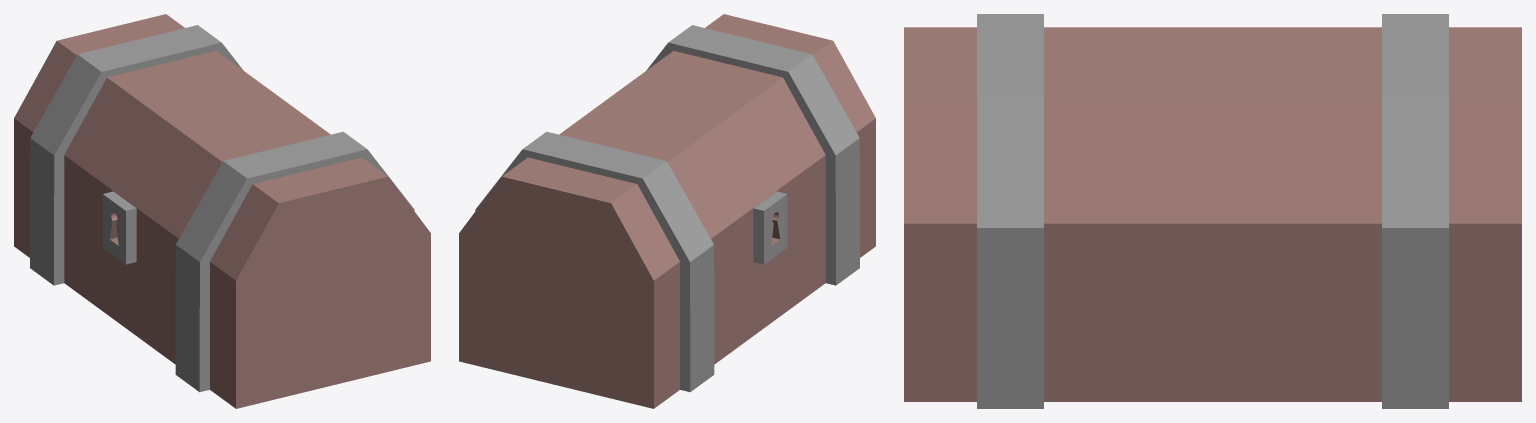
The model's file is Gecilada.fbx.
3 renders of one model, left to right at view 1: azimuth 30°, elevation 25°; view 2: azimuth 150°, elevation 25°; view 3: azimuth 270°, elevation 25°, orthographic. The views are drawn at different scales.
Visible parts, largest first — view 1: Cube; view 2: Cube; view 3: Cube.
Part boxes in pixels (left/top/right/bottom): Cube: left=14, top=14, right=430, bottom=408; Cube: left=459, top=14, right=875, bottom=408; Cube: left=904, top=14, right=1521, bottom=408.
Size of the model in its own units: 222 by 198 by 395.
